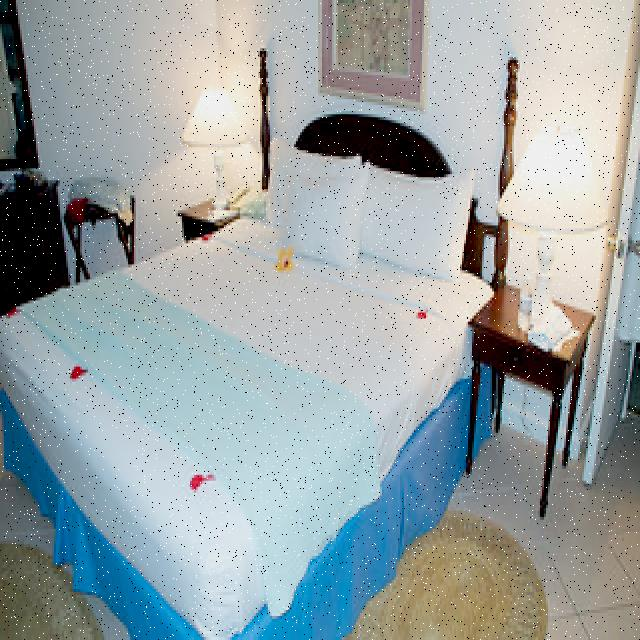bed: (0, 105, 512, 640)
